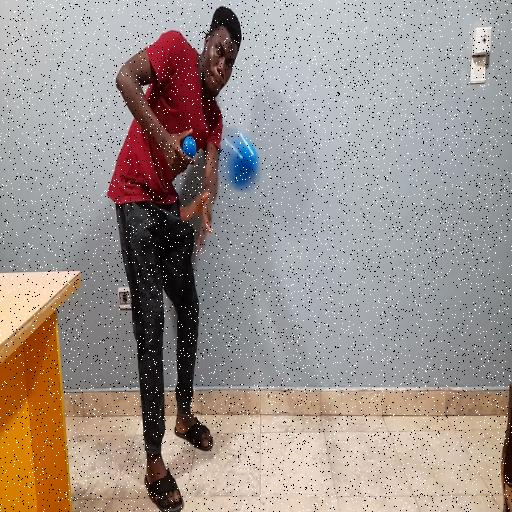plastic-ball: (210, 126, 261, 196)
